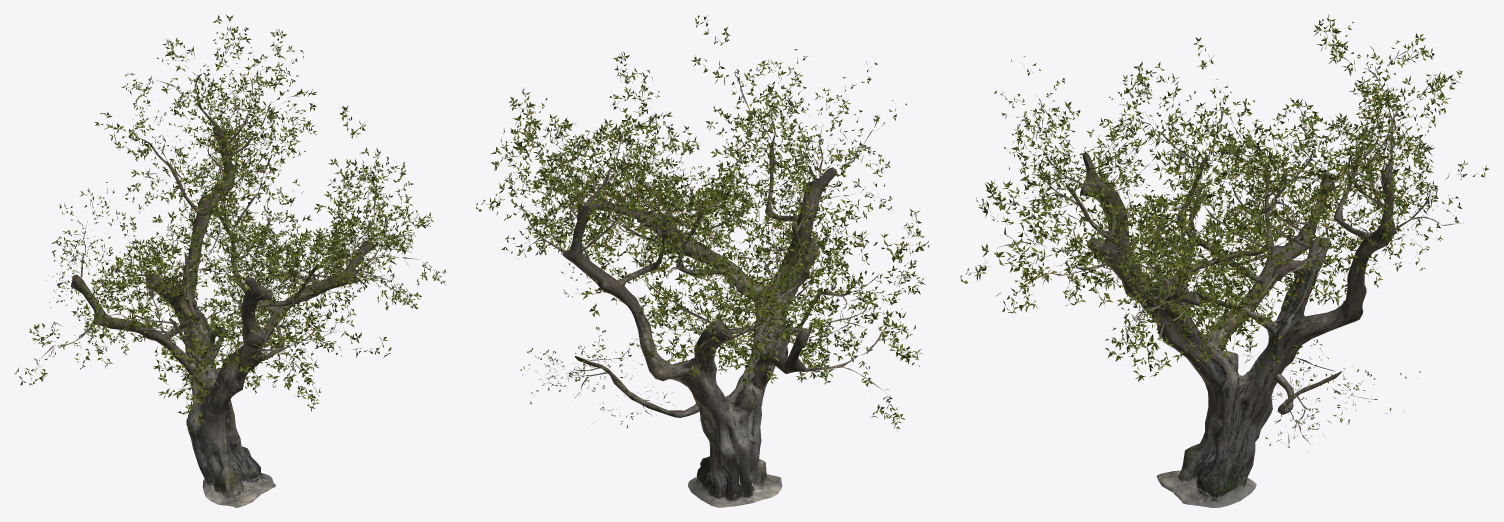
Rendered from island_tree_01_lod1.glb.
The picture shows the model from 3 angles, left to right: view 1: azimuth 30°, elevation 25°; view 2: azimuth 150°, elevation 25°; view 3: azimuth 270°, elevation 25°; orthographic projection. The views are drawn at different scales.
Visible parts, largest first — view 1: island_tree_01_LOD0.002, island_tree_01_LOD0.001, island_tree_01_LOD0; view 2: island_tree_01_LOD0.002, island_tree_01_LOD0.001, island_tree_01_LOD0; view 3: island_tree_01_LOD0.002, island_tree_01_LOD0.001, island_tree_01_LOD0.
Part boxes in pixels (x1,y1,x2,y2): island_tree_01_LOD0.002: [14, 15, 446, 431]; island_tree_01_LOD0.001: [70, 126, 374, 507]; island_tree_01_LOD0: [37, 19, 440, 420]; island_tree_01_LOD0.002: [476, 15, 929, 431]; island_tree_01_LOD0.001: [562, 140, 837, 507]; island_tree_01_LOD0: [486, 23, 921, 425]; island_tree_01_LOD0.002: [960, 14, 1489, 445]; island_tree_01_LOD0.001: [1067, 143, 1395, 507]; island_tree_01_LOD0: [972, 20, 1477, 451].
Size of the model in its own units: 4.74 by 5.02 by 4.79.
Materials: 3 (3 with a texture image).
